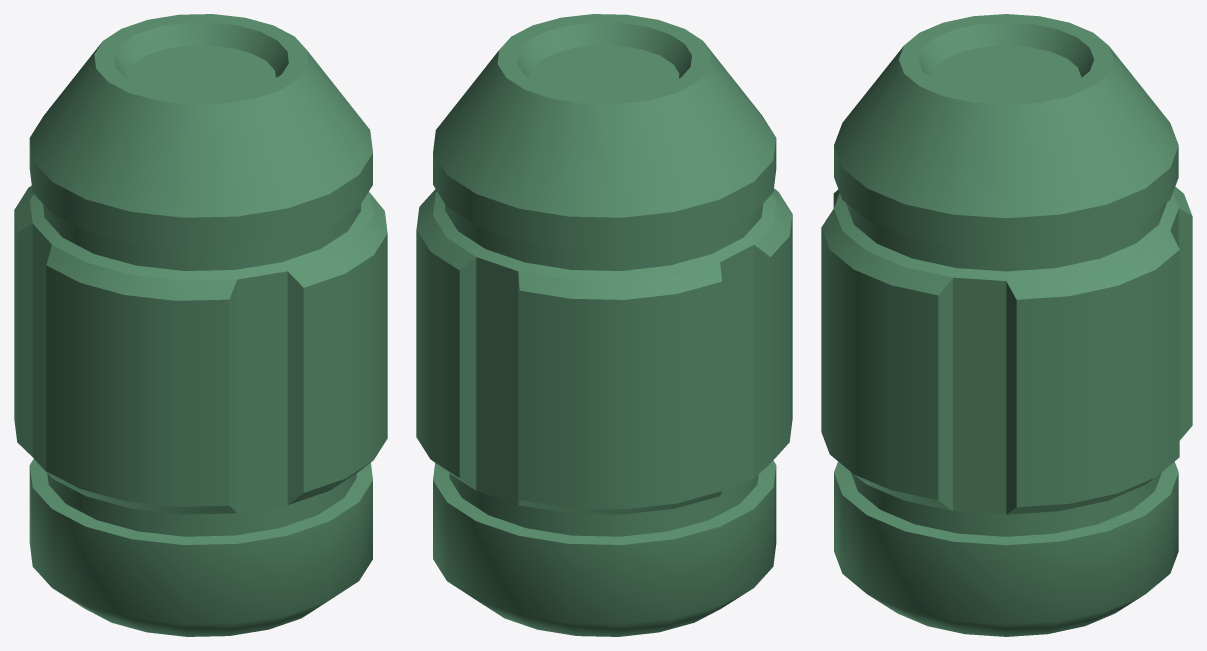
The model's file is barrel_lowp.fbx.
The picture shows the model from 3 angles, left to right: view 1: azimuth 30°, elevation 25°; view 2: azimuth 150°, elevation 25°; view 3: azimuth 270°, elevation 25°; orthographic projection.
Parts seen in each view (by area): view 1: barrel_low; view 2: barrel_low; view 3: barrel_low.
Part boxes in pixels (left/top/right/bottom): barrel_low: left=14, top=14, right=387, bottom=636; barrel_low: left=416, top=14, right=792, bottom=636; barrel_low: left=821, top=14, right=1192, bottom=636.
Size of the model in its own units: 0.3928 by 0.6085 by 0.393.
